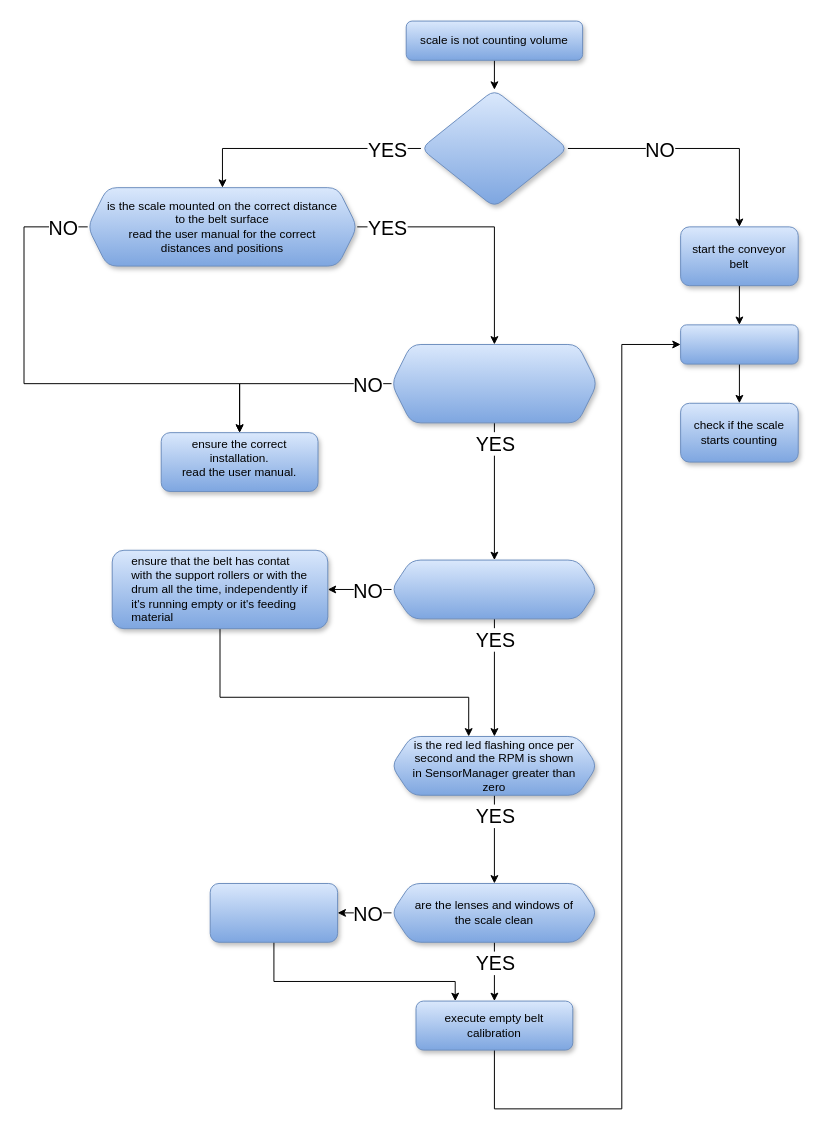
The diagram is 821 pixels wide and 1134 high, and some of its shapes have lost their labels. The shapes that lost their labels are listed below. From the top down, each one's centre as x and y in pixels, then its label:
the point at 495,149: is the conveyo r belt running
the point at 740,345: start feeding material
the point at 495,385: is the scale mounted over the discharge drum or over a support roller station
the point at 495,590: has the belt all time contact with the support rollers or with the drum
the point at 274,914: clean the lenses and windows
